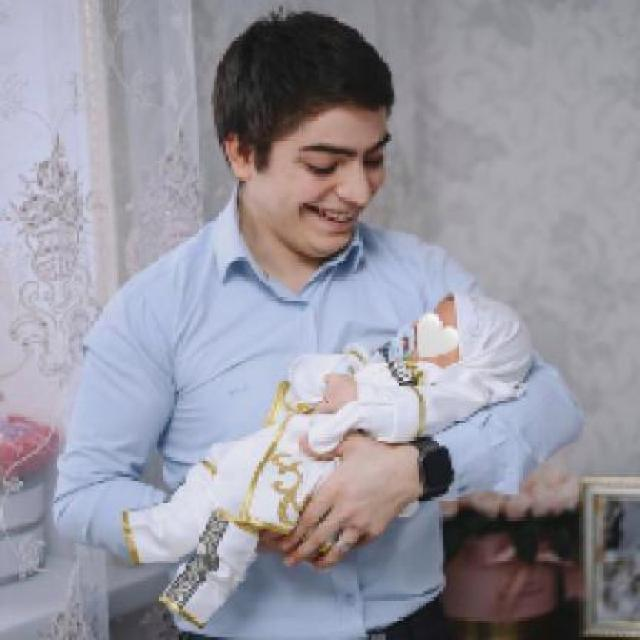child: (119, 288, 536, 632)
